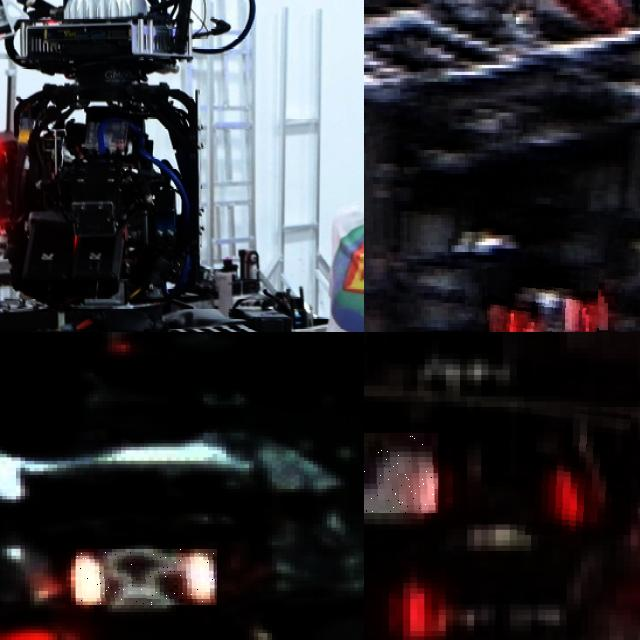R1: (517, 402, 631, 535), (364, 556, 452, 640), (364, 433, 438, 513)
R2: (486, 267, 599, 332)
Rs: (76, 549, 217, 605)
